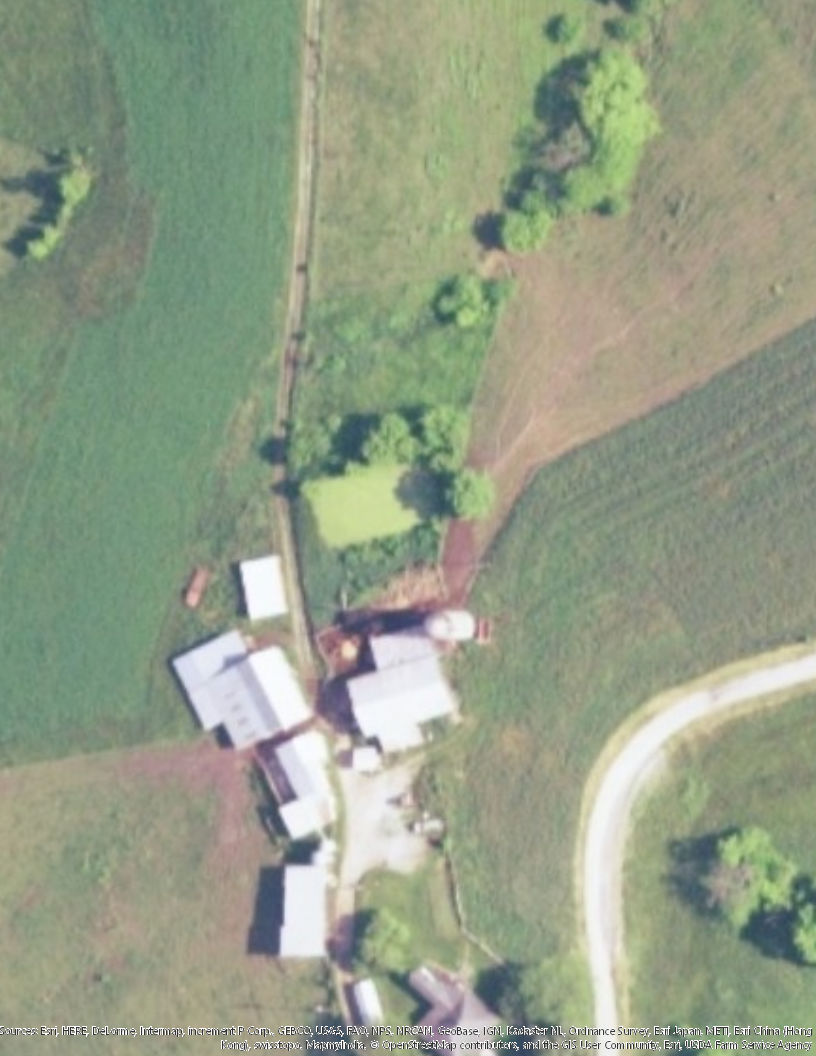cafo: (320, 578, 476, 752), (179, 627, 315, 743), (266, 728, 342, 844)
